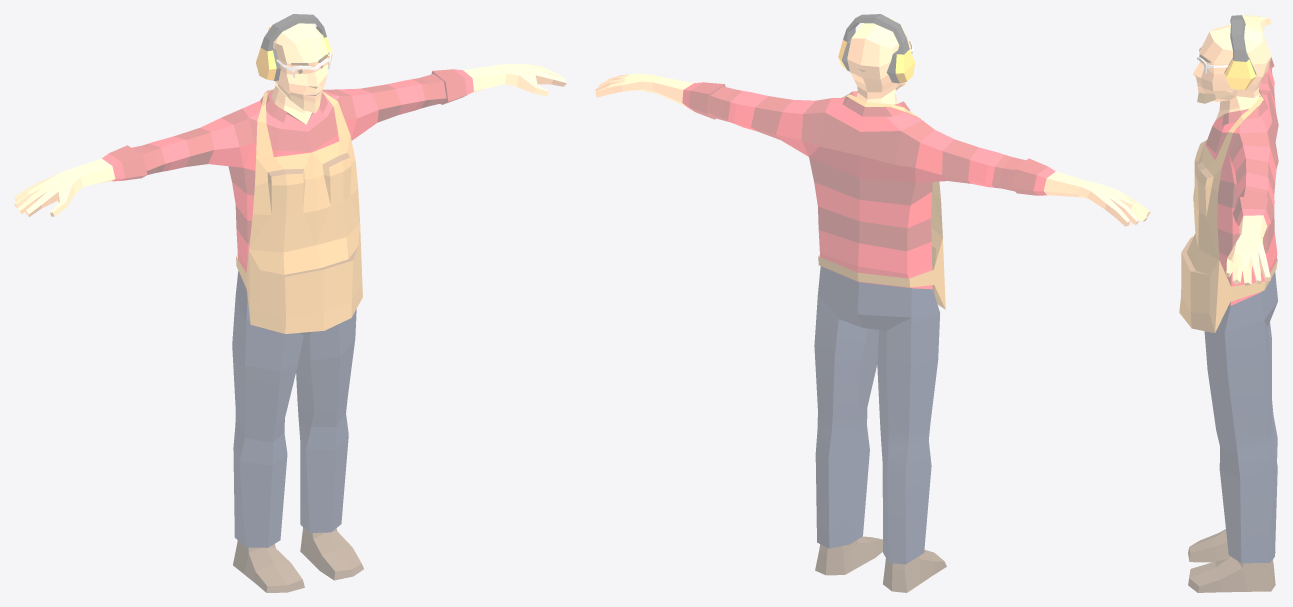
File: 215_man_carpenter.gltf
3 renders of one model, left to right at view 1: azimuth 30°, elevation 25°; view 2: azimuth 150°, elevation 25°; view 3: azimuth 270°, elevation 25°, orthographic.
Visible parts, largest first — view 1: man_carpenter; view 2: man_carpenter; view 3: man_carpenter.
Boxes of the visible parts, left/top/right/bottom form: man_carpenter: left=14, top=14, right=566, bottom=592; man_carpenter: left=595, top=14, right=1150, bottom=592; man_carpenter: left=1179, top=14, right=1278, bottom=592.
Bounding box in the file's own units: 1.86 × 1.8 × 0.295.
1 material, 1 textured.
